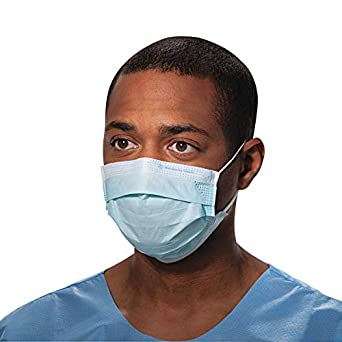surgical: (91, 157, 232, 266)
